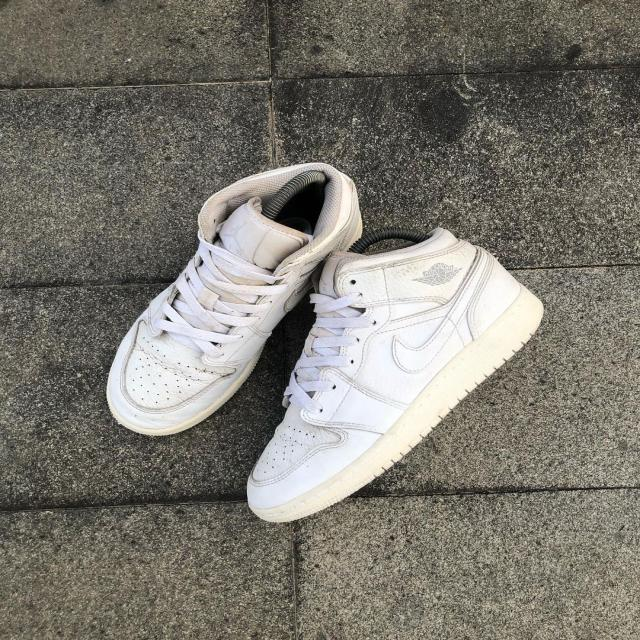nike fake jordan 1: (245, 227, 547, 530), (106, 159, 362, 437)
